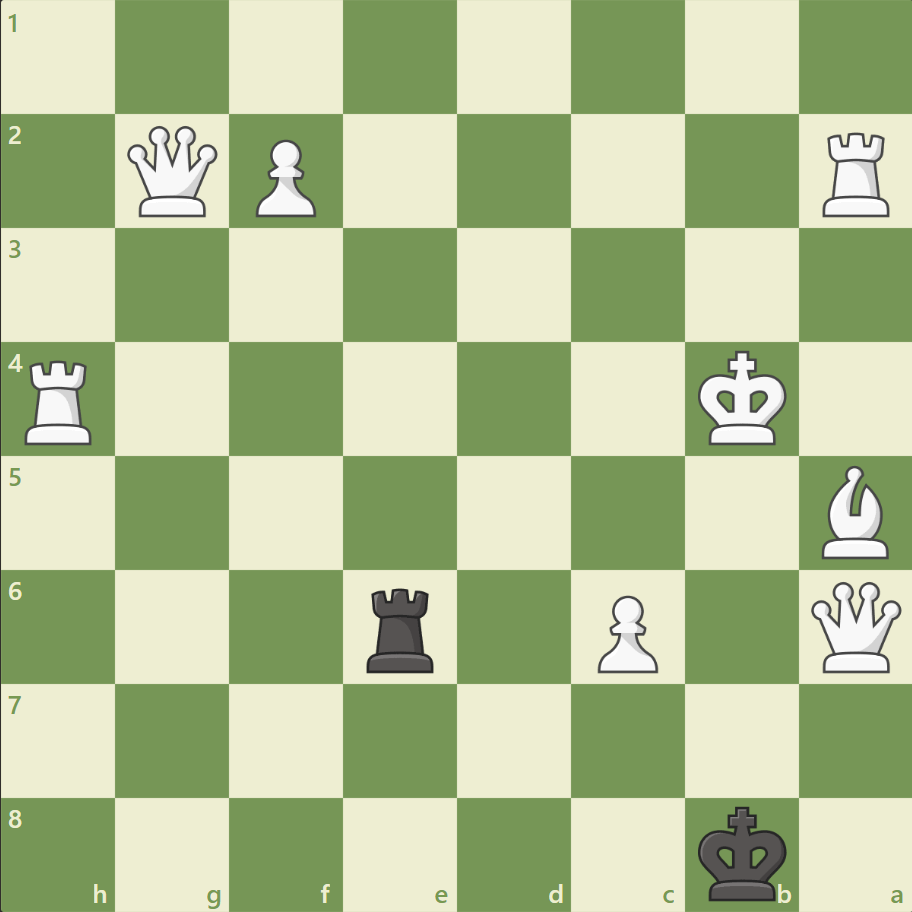B: (812, 460, 896, 563)
K: (692, 344, 792, 452)
P: (247, 132, 322, 223), (588, 586, 662, 677)
Q: (805, 576, 904, 676), (124, 122, 223, 222)
R: (19, 352, 102, 449), (814, 125, 897, 222)
k: (692, 798, 792, 906)
r: (360, 579, 442, 676)
